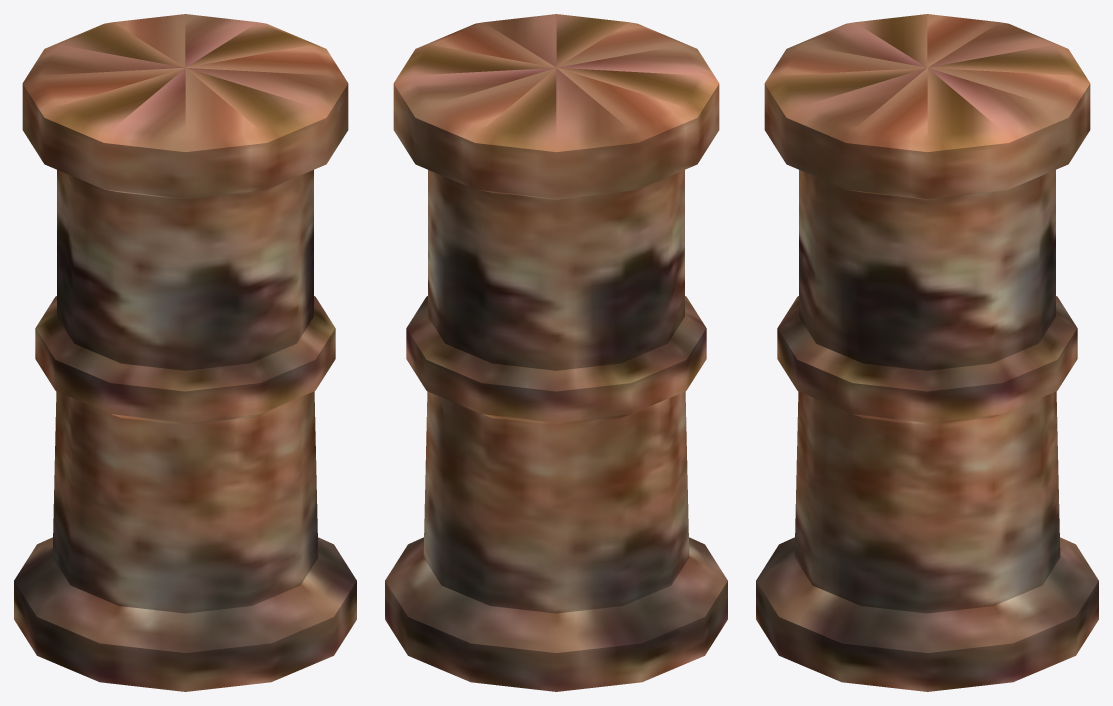
Rendered from SM_Banchina_Bitta_Ruggine_LOD1.fbx.
The picture shows the model from 3 angles, left to right: view 1: azimuth 30°, elevation 25°; view 2: azimuth 150°, elevation 25°; view 3: azimuth 270°, elevation 25°; orthographic projection.
Visible parts, largest first — view 1: SM_Banchina_Bitta_Ruggine_LOD1; view 2: SM_Banchina_Bitta_Ruggine_LOD1; view 3: SM_Banchina_Bitta_Ruggine_LOD1.
Boxes of the visible parts, x1,y1,x2,y2 form: SM_Banchina_Bitta_Ruggine_LOD1: (14, 14, 356, 691); SM_Banchina_Bitta_Ruggine_LOD1: (385, 14, 727, 691); SM_Banchina_Bitta_Ruggine_LOD1: (756, 14, 1098, 691).
Bounding box in the file's own units: 40 × 40 × 71.
Materials: 1 (1 with a texture image).
